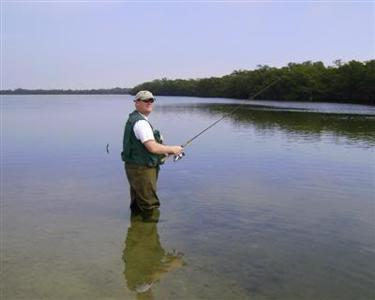person: (122, 91, 184, 210)
